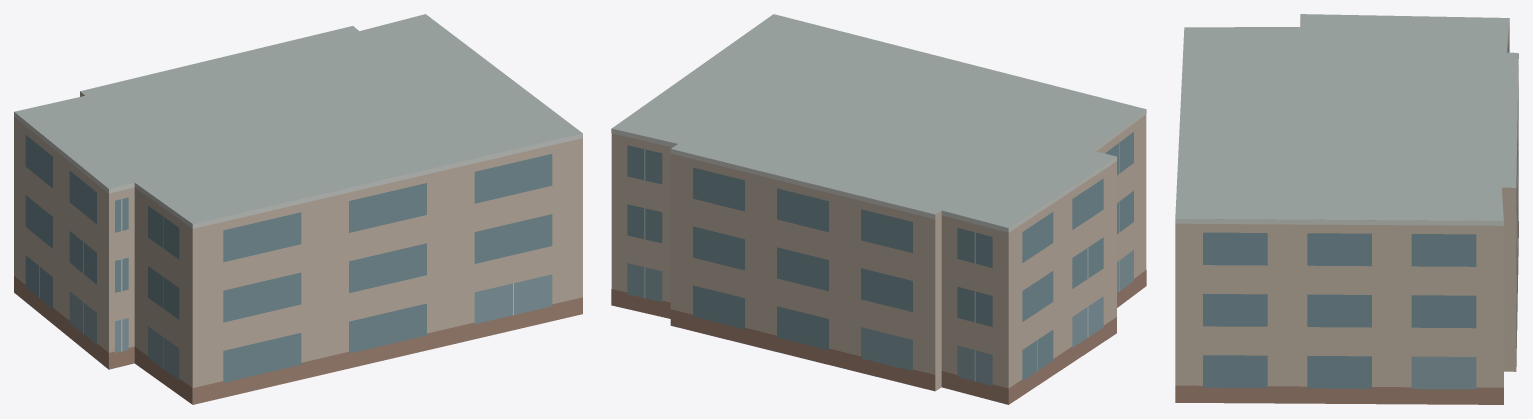
File: survey-upis-32819421.glb
3 views of the same model, side by side, from view 1: azimuth 30°, elevation 25°; view 2: azimuth 150°, elevation 25°; view 3: azimuth 270°, elevation 25° (orthographic). The views are drawn at different scales.
Visible parts, largest first — view 1: survey-upis-32819421.tmp; view 2: survey-upis-32819421.tmp; view 3: survey-upis-32819421.tmp.
Boxes of the visible parts, x1,y1,x2,y2 form: survey-upis-32819421.tmp: (14,14,582,404); survey-upis-32819421.tmp: (611,14,1146,404); survey-upis-32819421.tmp: (1175,14,1518,404).
Bounding box in the file's own units: 22.09 × 9.15 × 15.5.
